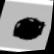correct: (8, 11, 51, 47)
